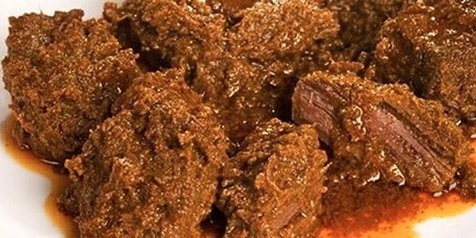rendang: (6, 3, 469, 228)
